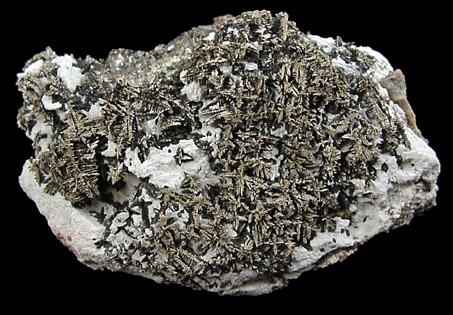silver: (18, 13, 407, 270), (123, 171, 214, 283)
